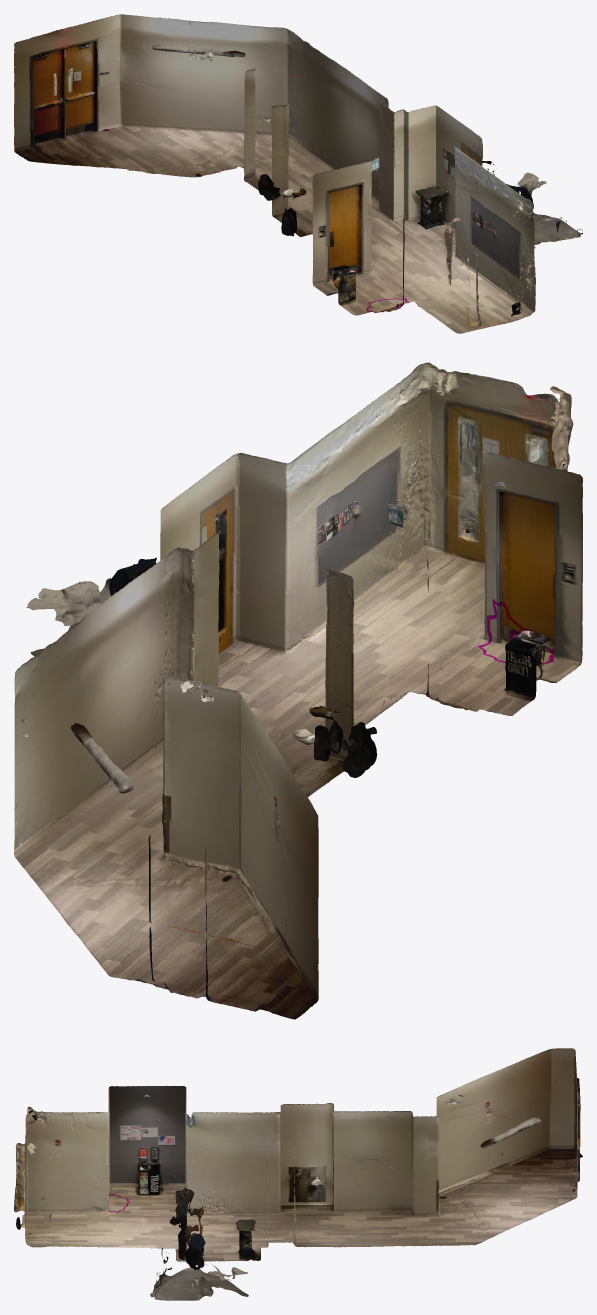
3 renders of one model, top to bottom at view 1: azimuth 30°, elevation 25°; view 2: azimuth 150°, elevation 25°; view 3: azimuth 270°, elevation 25°, orthographic. The views are drawn at different scales.
Size of the model in its own units: 9.78 by 3.28 by 15.41.
3 materials, 3 textured.
